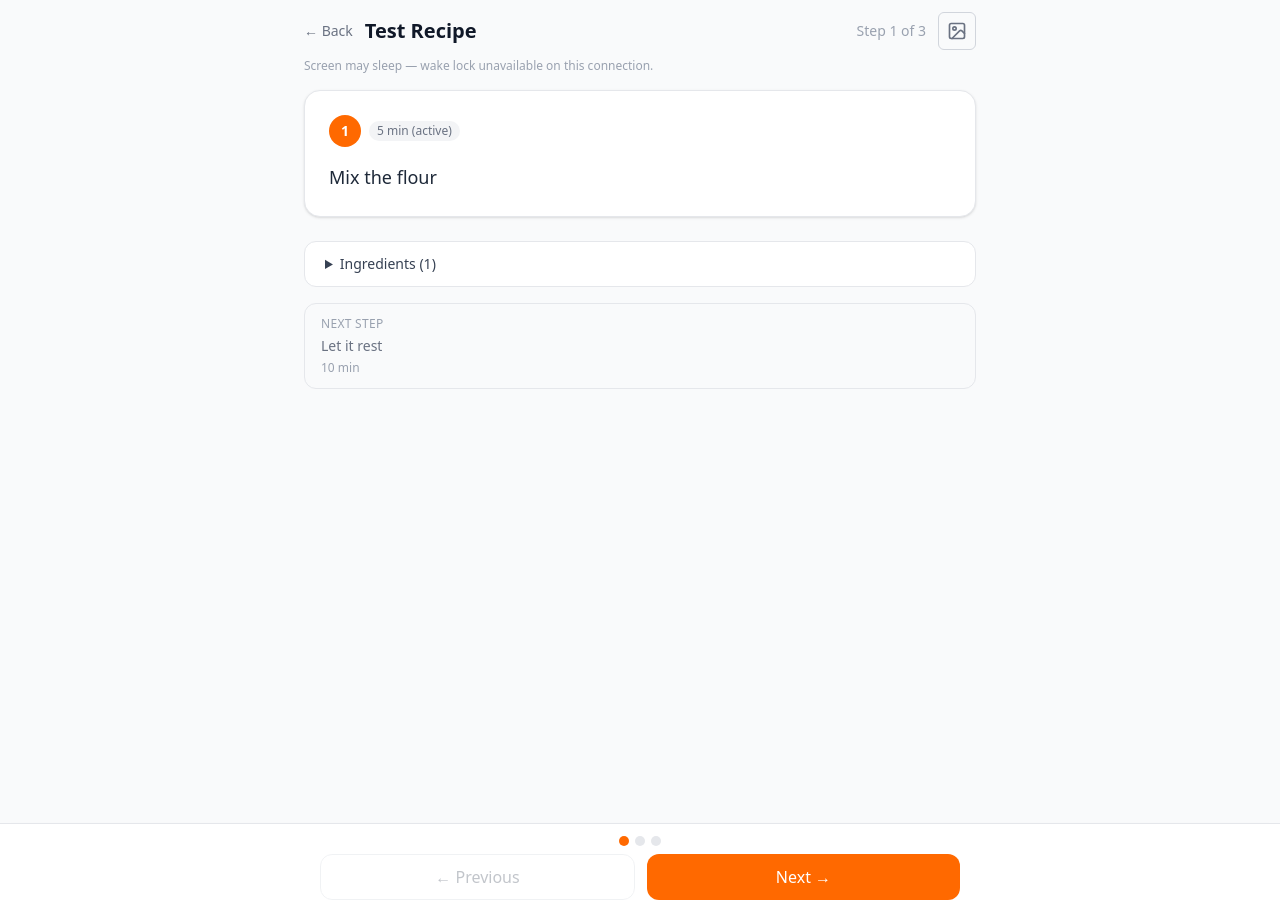
it: CookModePage › can pause and resume a timer from the running panel
Expected: the text "Mix the flour" is shown, [329, 165, 437, 189]
// Navigate to step 2, start timer, go to step 3
Click the button "Next →": (804, 877) [647, 854, 960, 900]
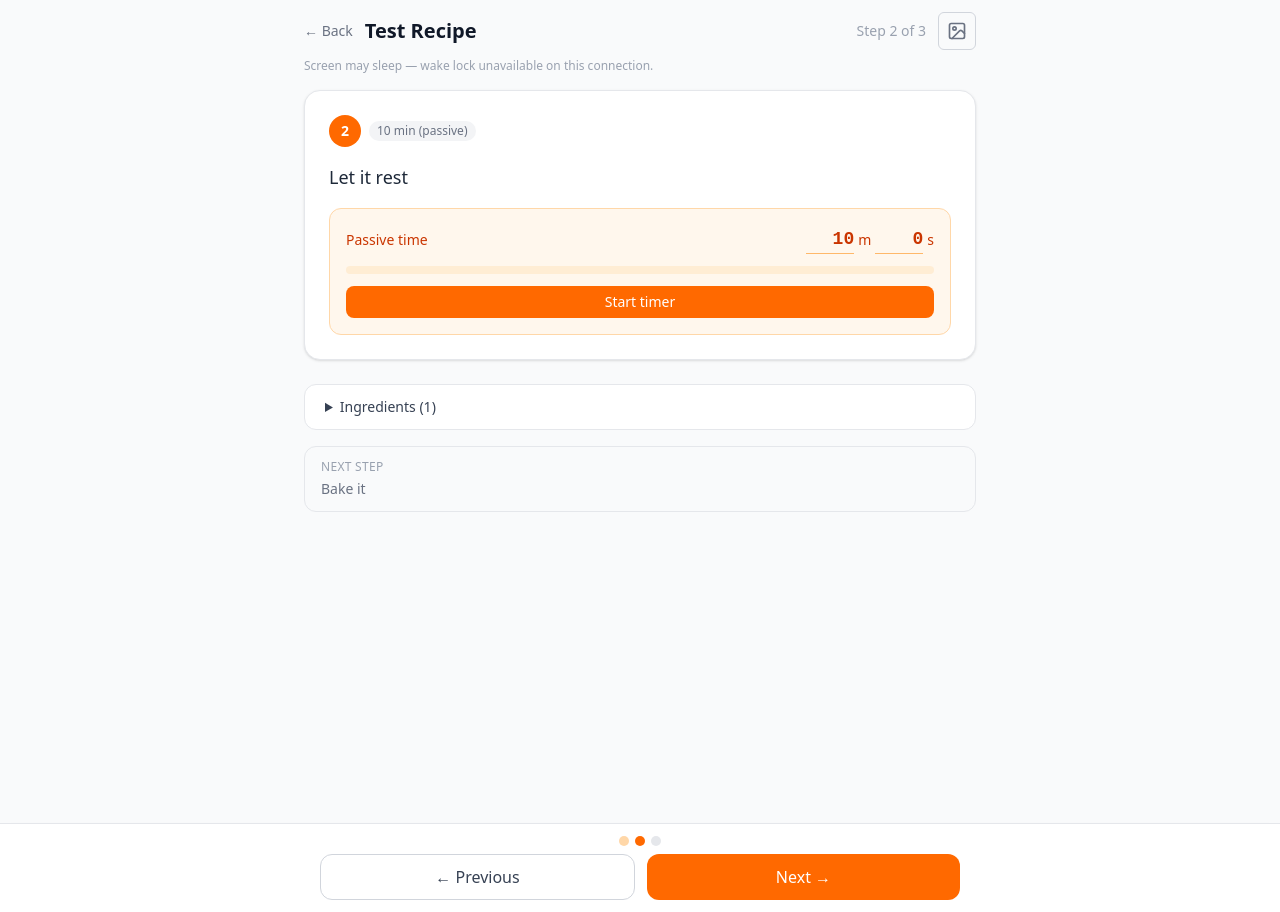
Click the button "Start timer": (640, 302) [346, 286, 934, 318]
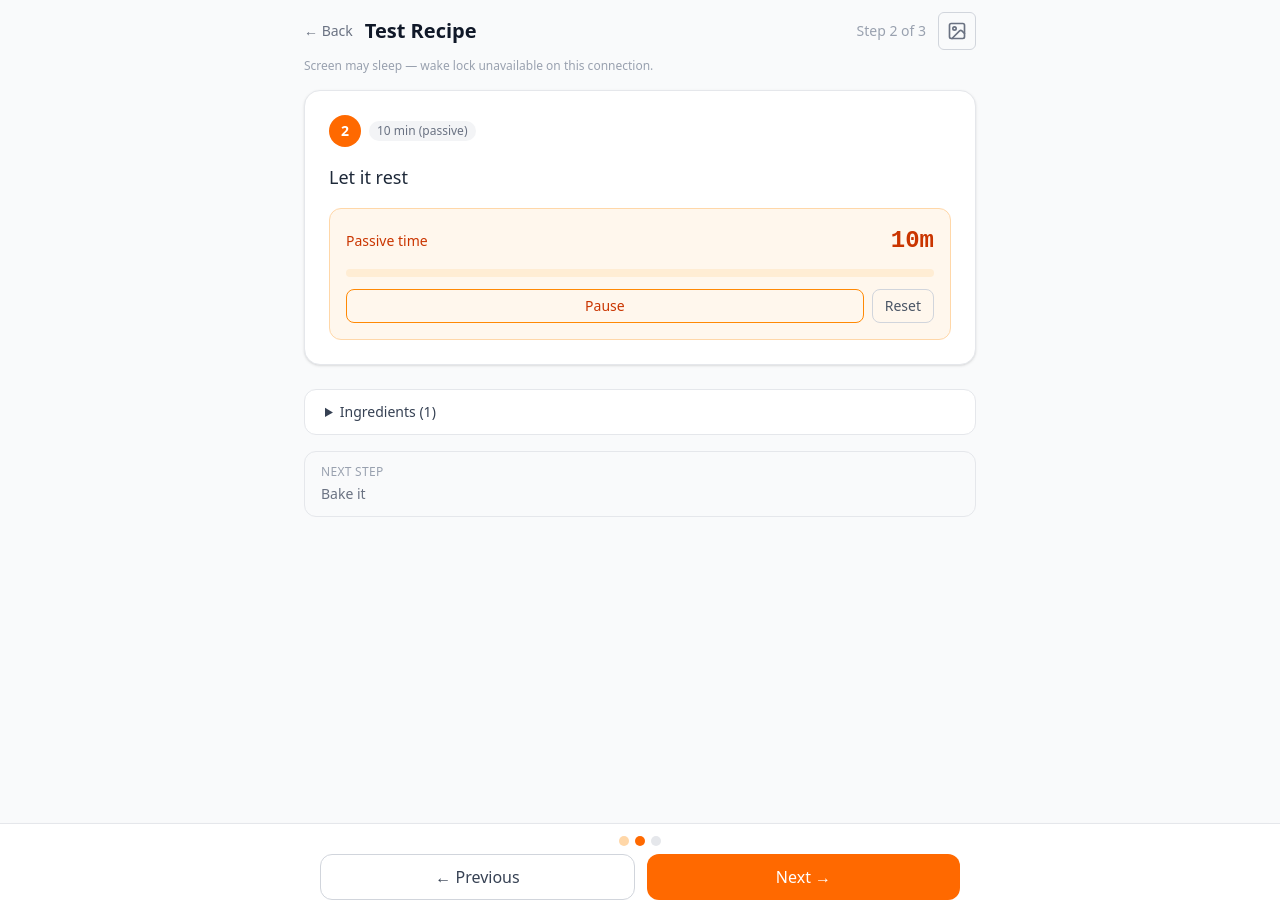
Click the button "Next →": (804, 877) [647, 854, 960, 900]
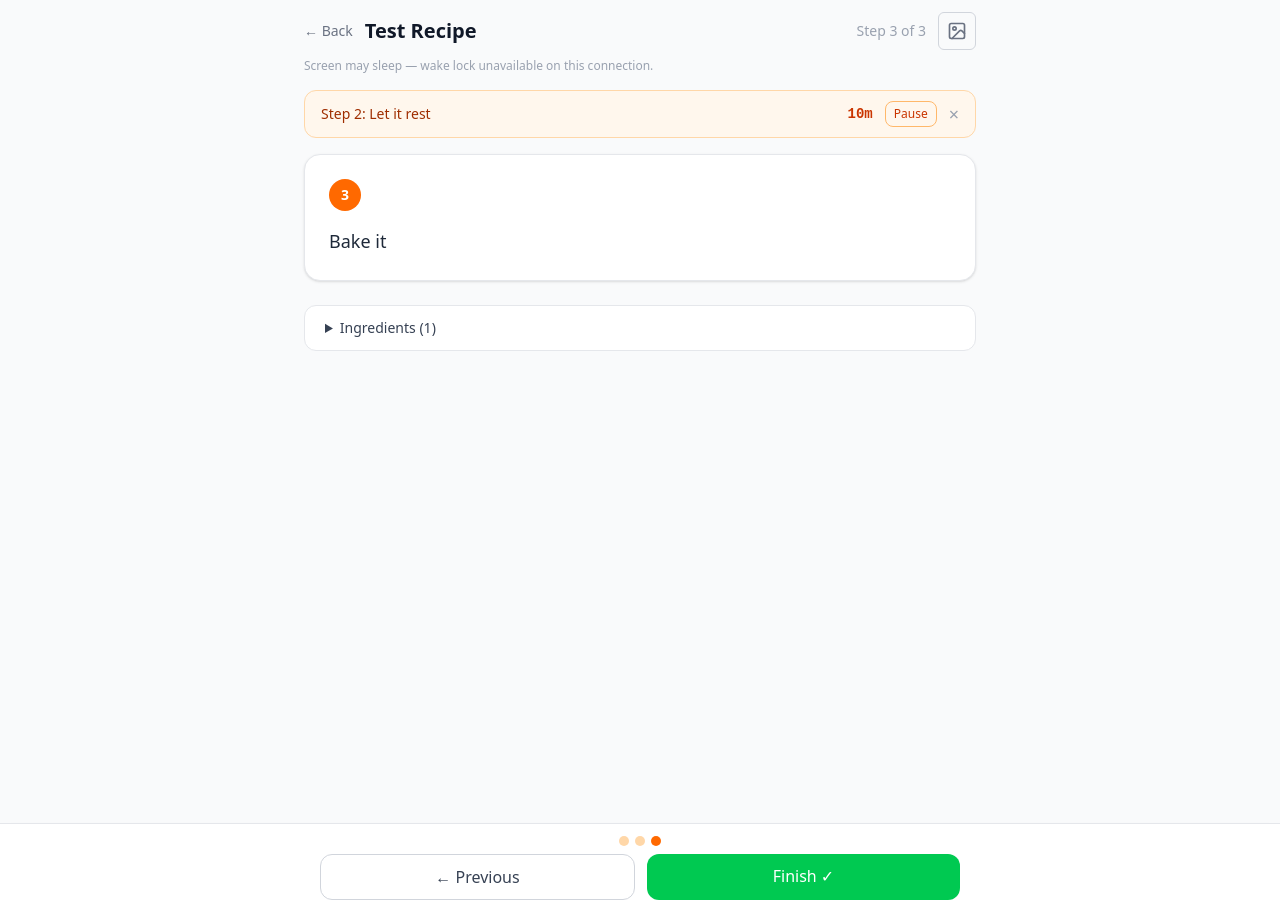
// Pause from panel
Click the button with aria-label "pause timer": (911, 114) [885, 101, 937, 127]
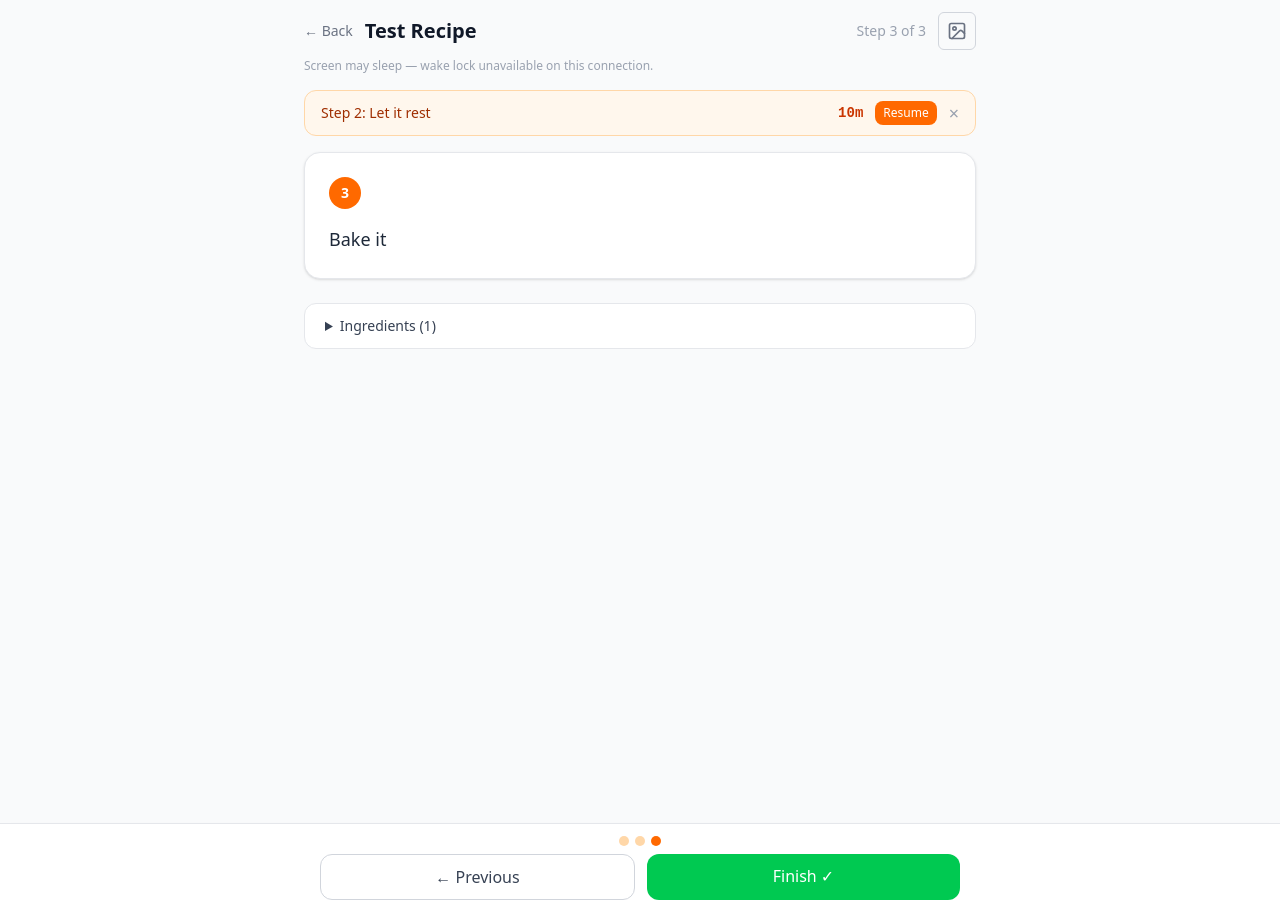
Expected: the button with aria-label "resume timer" is shown
// Resume it
Click the button with aria-label "resume timer": (906, 113) [875, 101, 937, 125]
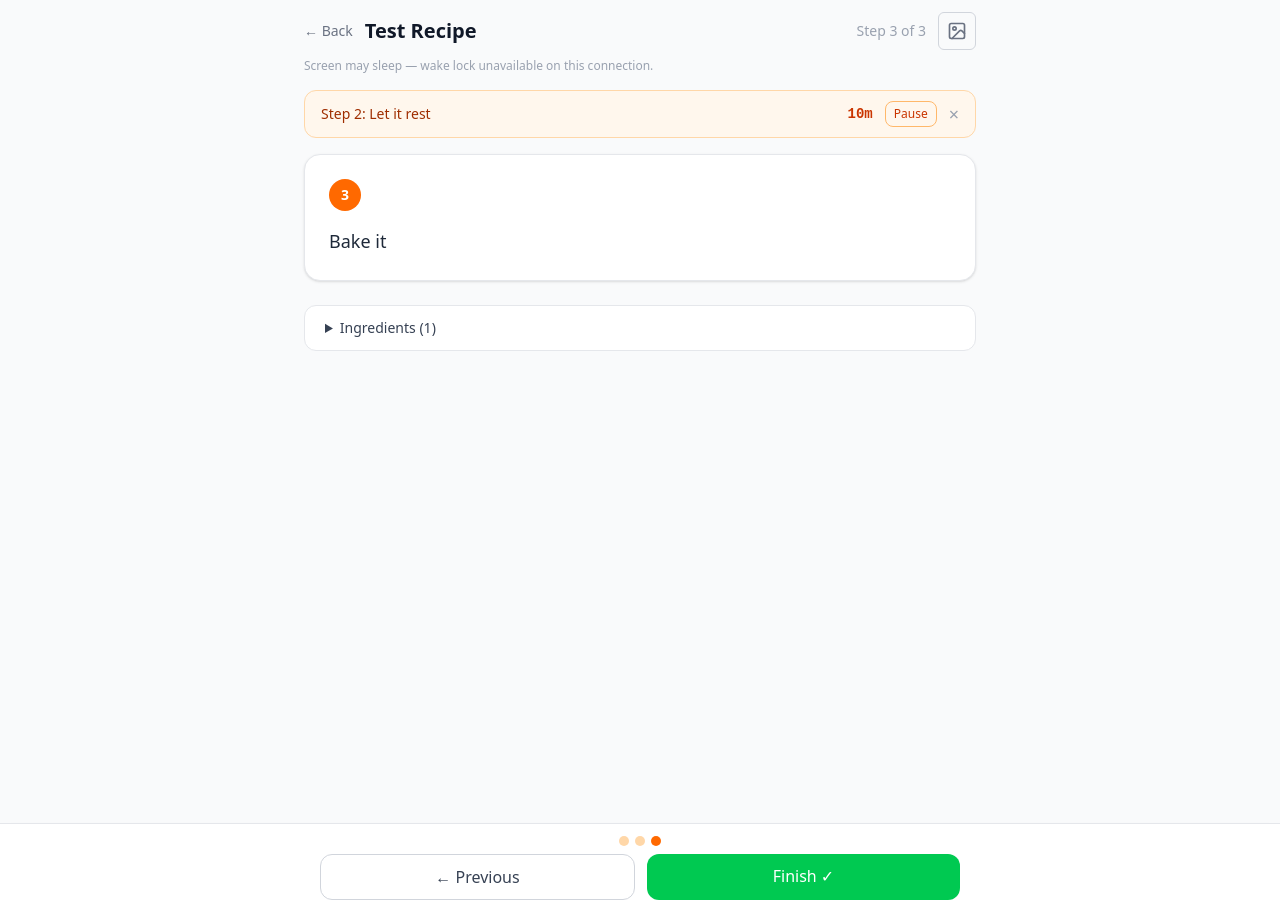
Expected: the button with aria-label "pause timer" is shown, [885, 101, 937, 127]
